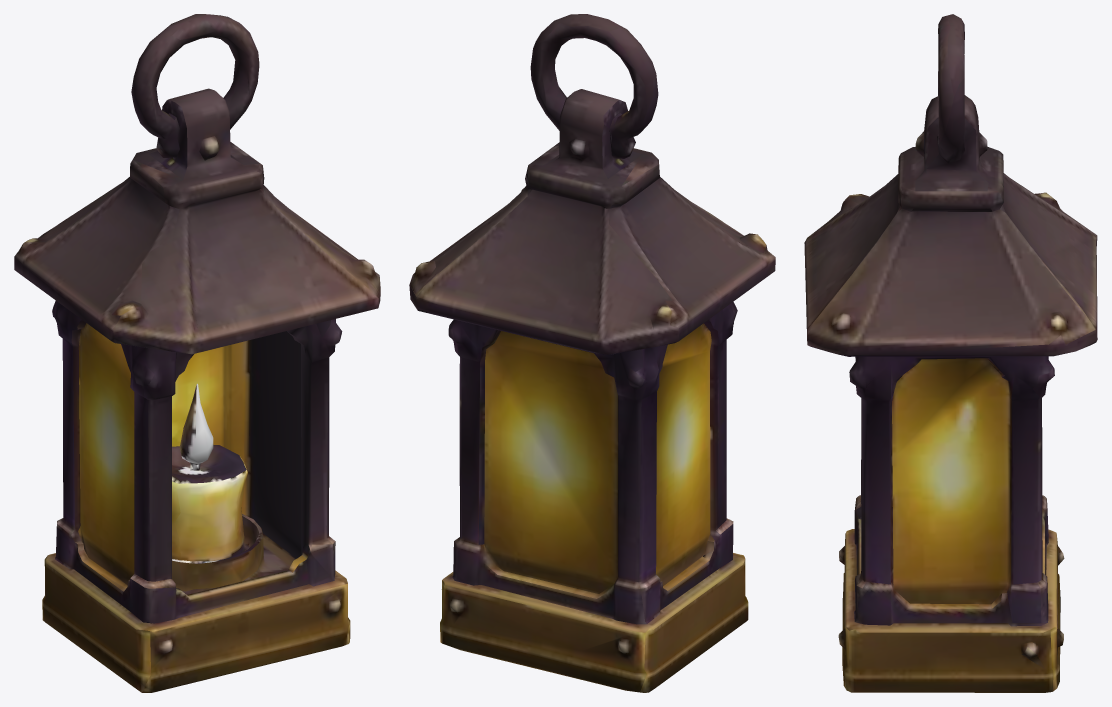
File: lantern-hd.glb
The picture shows the model from 3 angles, left to right: view 1: azimuth 30°, elevation 25°; view 2: azimuth 150°, elevation 25°; view 3: azimuth 270°, elevation 25°; orthographic projection.
Parts seen in each view (by area): view 1: lantern-hd.raw; view 2: lantern-hd.raw; view 3: lantern-hd.raw.
Boxes of the visible parts, left/top/right/bottom form: lantern-hd.raw: left=14, top=14, right=380, bottom=692; lantern-hd.raw: left=409, top=14, right=775, bottom=692; lantern-hd.raw: left=804, top=14, right=1097, bottom=692.
Bounding box in the file's own units: 0.1362 × 0.2998 × 0.1286.
Materials: 1 (1 with a texture image).
